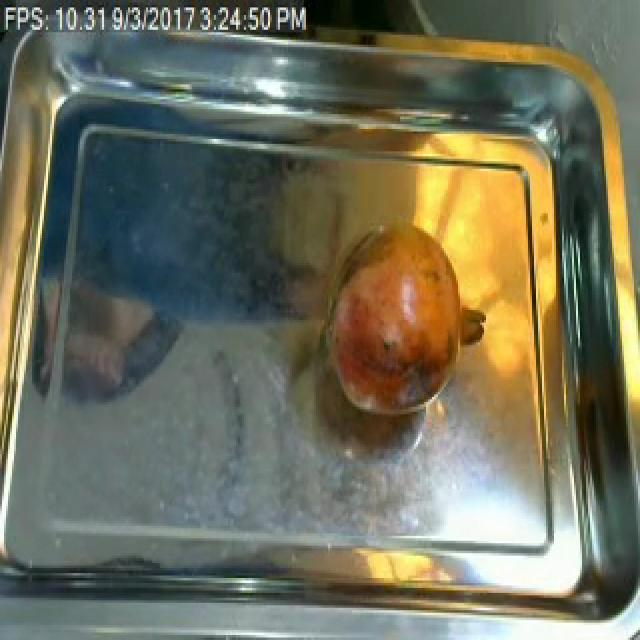fruit: (316, 204, 490, 432)
